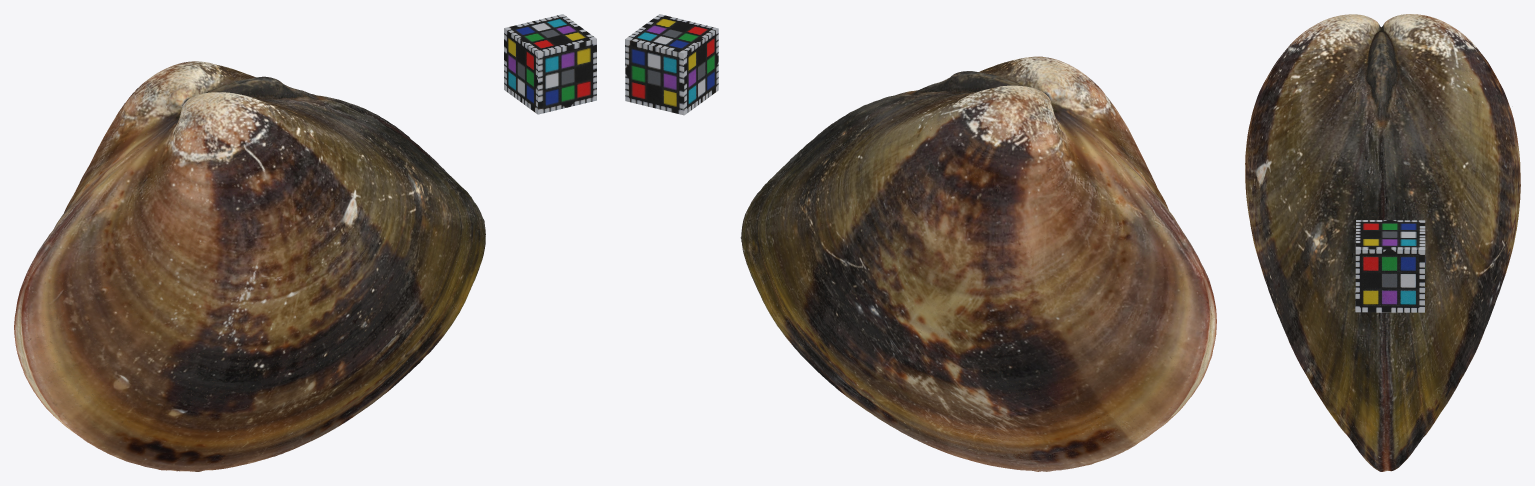
The model's file is clam_original.glb.
3 views of the same model, side by side, from view 1: azimuth 30°, elevation 25°; view 2: azimuth 150°, elevation 25°; view 3: azimuth 270°, elevation 25° (orthographic). The views are drawn at different scales.
Visible parts, largest first — view 1: Q11201-1all_5, Cube_2; view 2: Q11201-1all_5, Cube_2; view 3: Q11201-1all_5, Cube_2.
Boxes of the visible parts, left/top/right/bottom form: Q11201-1all_5: left=14, top=61, right=485, bottom=471; Cube_2: left=504, top=14, right=596, bottom=114; Q11201-1all_5: left=740, top=56, right=1216, bottom=471; Cube_2: left=625, top=14, right=718, bottom=115; Q11201-1all_5: left=1245, top=14, right=1520, bottom=471; Cube_2: left=1355, top=220, right=1425, bottom=312.
Size of the model in its own units: 5.19 by 3.42 by 2.15.
Materials: 2 (2 with a texture image).
